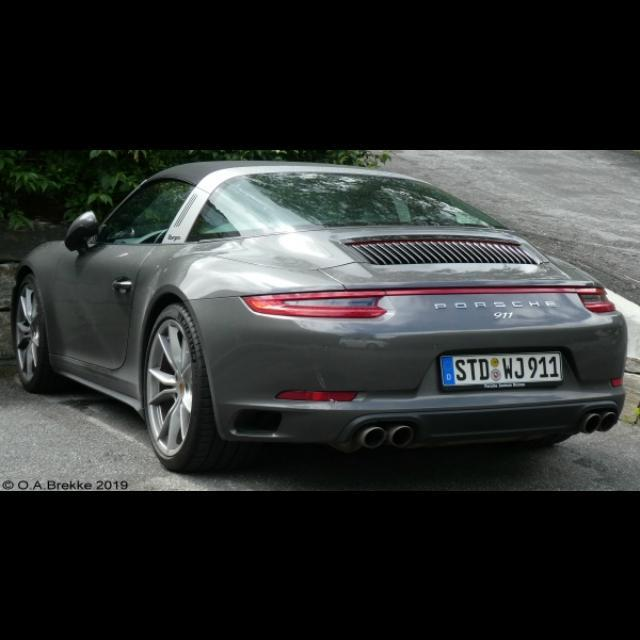license-plates: (442, 353, 564, 389)
